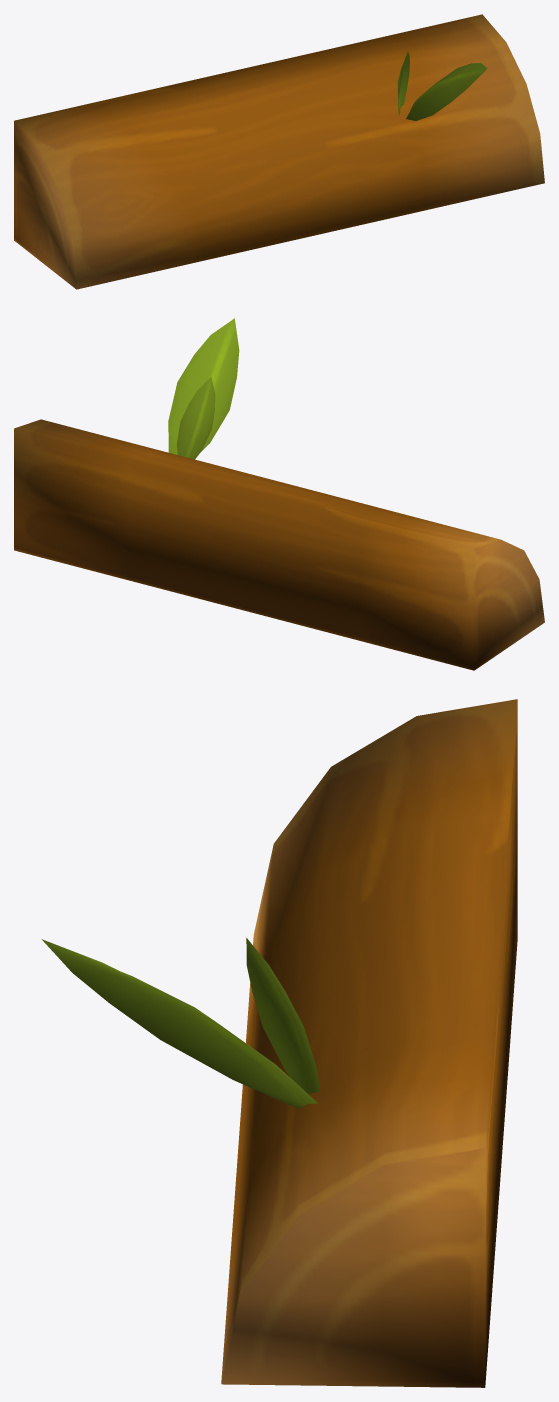
Rendered from Tronco con planta.fbx.
The picture shows the model from 3 angles, top to bottom: view 1: azimuth 30°, elevation 25°; view 2: azimuth 150°, elevation 25°; view 3: azimuth 270°, elevation 25°; orthographic projection. The views are drawn at different scales.
Parts seen in each view (by area): view 1: Tronco; view 2: Tronco; view 3: Tronco.
Part boxes in pixels (box(x1,y1,x2,y2)): Tronco: box(14, 14, 544, 289); Tronco: box(14, 318, 544, 670); Tronco: box(41, 699, 517, 1387).
Bounding box in the file's own units: 128 × 45.49 × 56.86.
